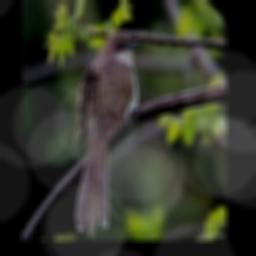Cuckoo: (72, 30, 143, 237)
